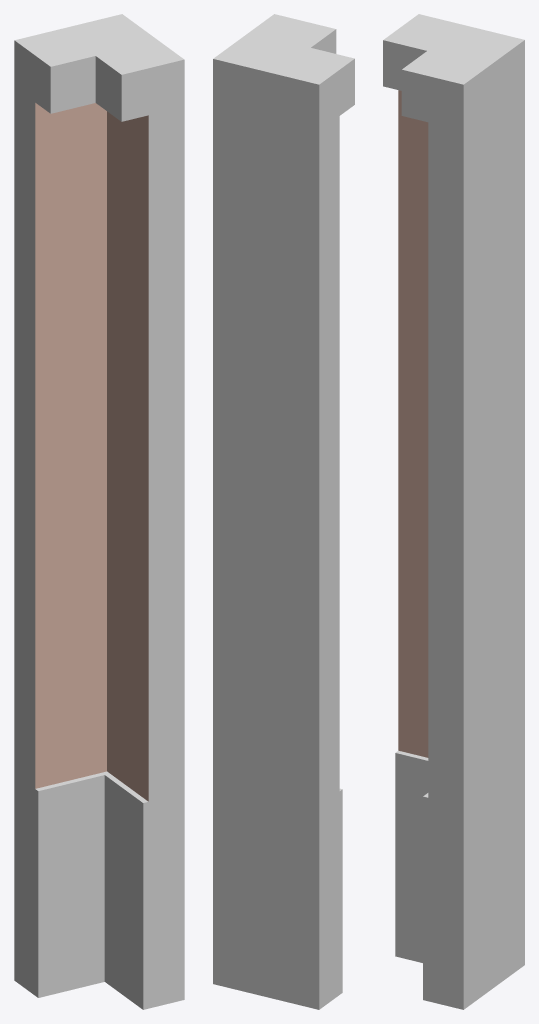
File: Entrance_Wall_Corner_02.fbx
The picture shows the model from 3 angles, left to right: view 1: azimuth 30°, elevation 25°; view 2: azimuth 150°, elevation 25°; view 3: azimuth 330°, elevation 25°; orthographic projection.
Parts seen in each view (by area): view 1: Entrance_Wall_Corner_02; view 2: Entrance_Wall_Corner_02; view 3: Entrance_Wall_Corner_02.
Part boxes in pixels (x1,y1,x2,y2): Entrance_Wall_Corner_02: (14, 14, 184, 1009); Entrance_Wall_Corner_02: (213, 14, 354, 1009); Entrance_Wall_Corner_02: (383, 14, 524, 1009).
Size of the model in its own units: 0.6 by 5 by 0.6.
